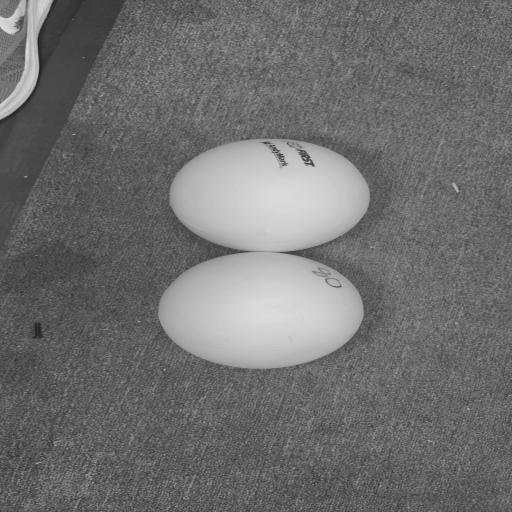fuel: (158, 252, 363, 368), (171, 137, 369, 251)
